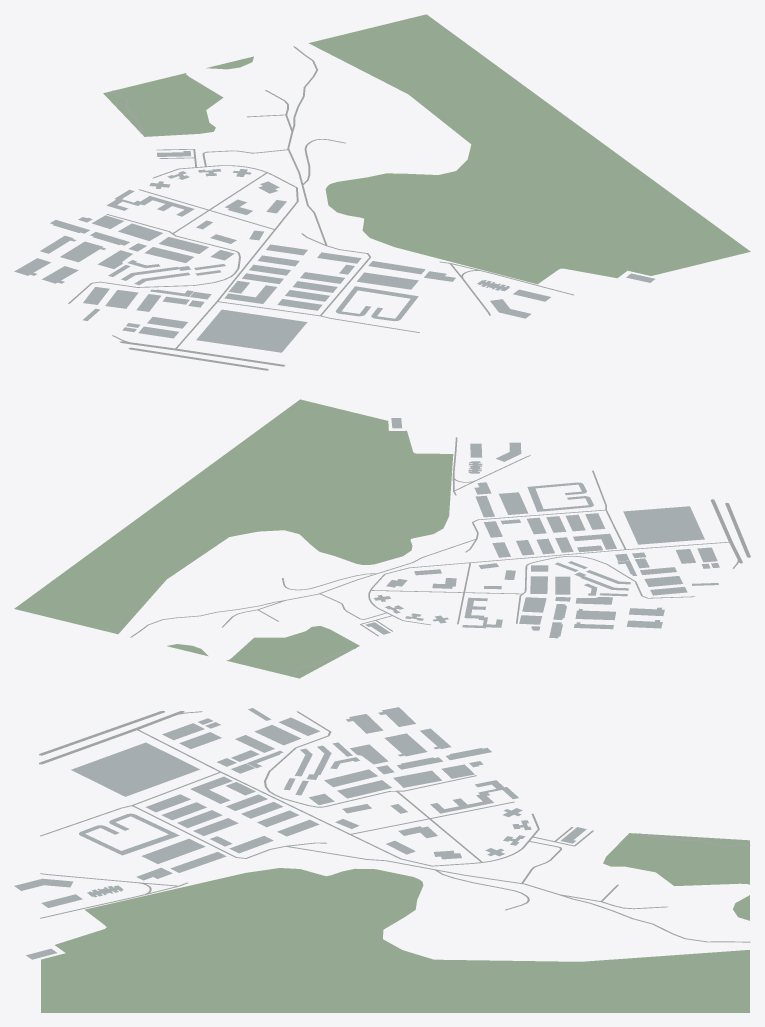
The model's file is -10_11-known-fine.glb.
3 views of the same model, one above another, from view 1: azimuth 30°, elevation 25°; view 2: azimuth 150°, elevation 25°; view 3: azimuth 270°, elevation 25° (orthographic). The views are drawn at different scales.
Bounding box in the file's own units: 1015 × 0.15 × 1034.
